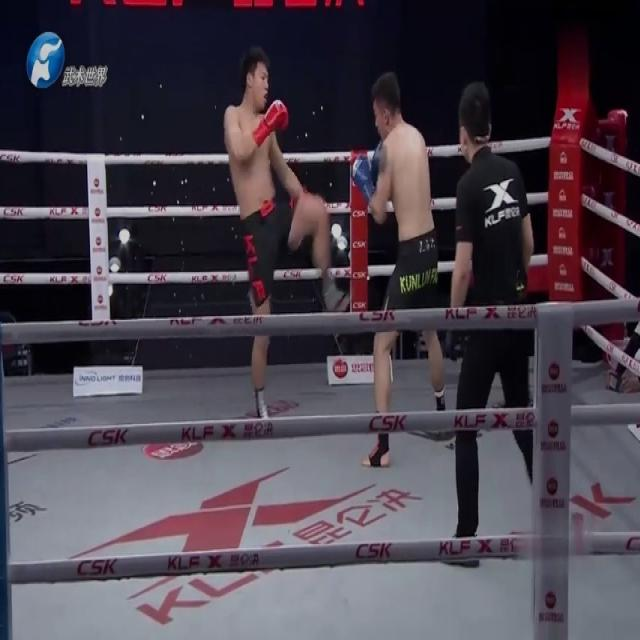fight: (225, 51, 453, 474)
non-fight: (438, 73, 543, 564)
